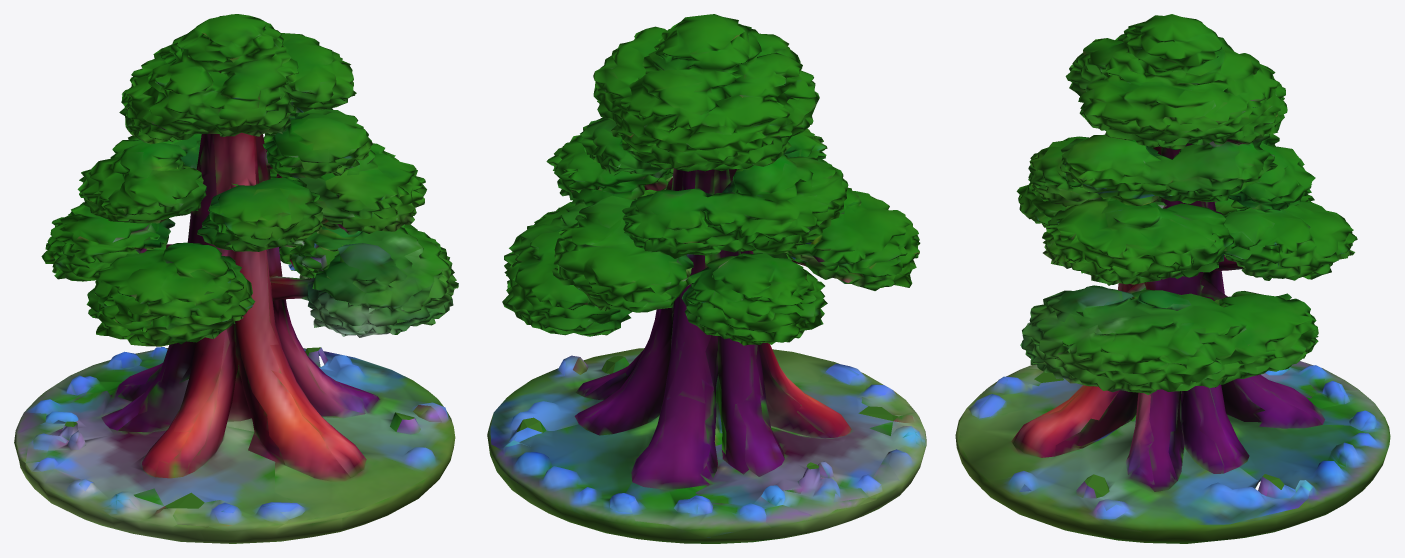
The model's file is sequoia_tree.glb.
3 renders of one model, left to right at view 1: azimuth 30°, elevation 25°; view 2: azimuth 150°, elevation 25°; view 3: azimuth 270°, elevation 25°, orthographic.
Parts seen in each view (by area): view 1: tmpcrmprqix.ply; view 2: tmpcrmprqix.ply; view 3: tmpcrmprqix.ply.
Boxes of the visible parts, x1=… form: tmpcrmprqix.ply: x1=14, y1=14, x2=458, y2=543; tmpcrmprqix.ply: x1=487, y1=14, x2=926, y2=543; tmpcrmprqix.ply: x1=955, y1=14, x2=1390, y2=543.
Bounding box in the file's own units: 1.85 × 2 × 1.8.
Materials: 1 (1 with a texture image).
